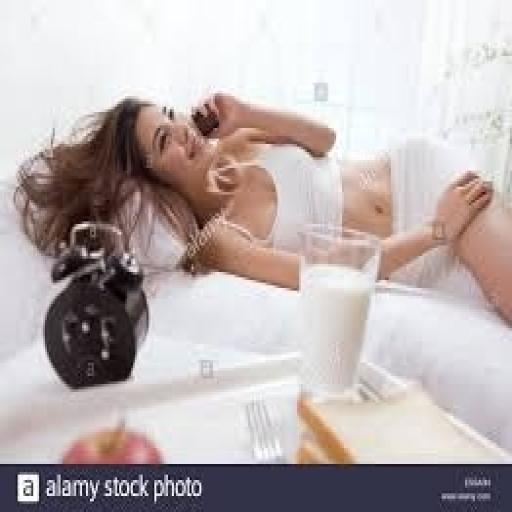calling: (12, 85, 510, 336)
